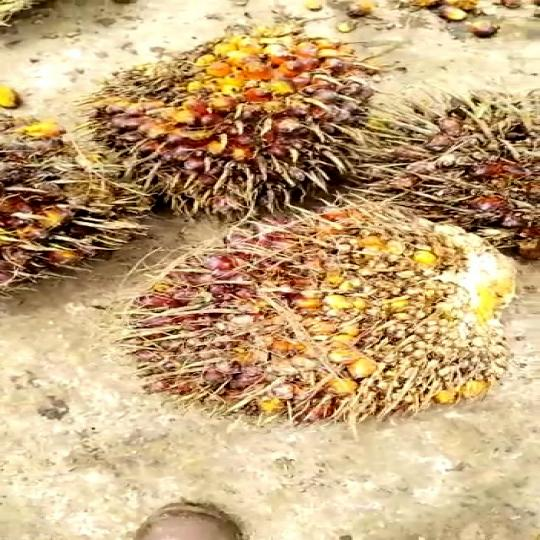masak: (114, 194, 535, 424), (81, 16, 404, 217)
